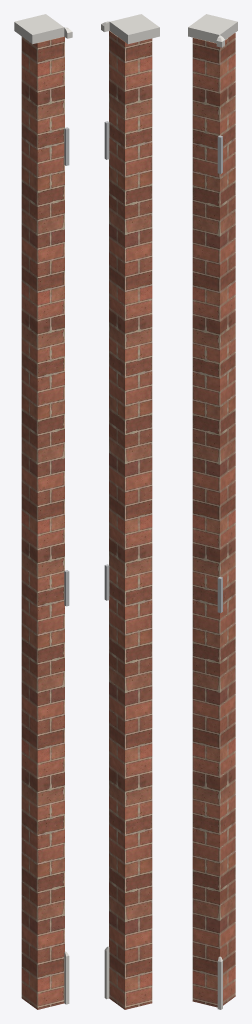
The model's file is p_corner.glb.
3 renders of one model, left to right at view 1: azimuth 30°, elevation 25°; view 2: azimuth 210°, elevation 25°; view 3: azimuth 330°, elevation 25°, orthographic.
Parts seen in each view (by area): view 1: p_corner_brick, p_corner_cill, p_corner_band; view 2: p_corner_brick, p_corner_cill, p_corner_band; view 3: p_corner_brick, p_corner_cill, p_corner_band.
Boxes of the visible parts, x1,y1,x2,y2 form: p_corner_brick: [21, 36, 64, 1009]; p_corner_cill: [14, 14, 72, 1004]; p_corner_band: [64, 127, 69, 606]; p_corner_brick: [109, 31, 152, 1009]; p_corner_cill: [101, 14, 159, 999]; p_corner_band: [104, 121, 109, 600]; p_corner_brick: [192, 33, 235, 1007]; p_corner_cill: [188, 14, 237, 1009]; p_corner_band: [217, 135, 222, 612].
Bounding box in the file's own units: 0.34 × 8.53 × 0.34.
Materials: 3 (1 with a texture image).
